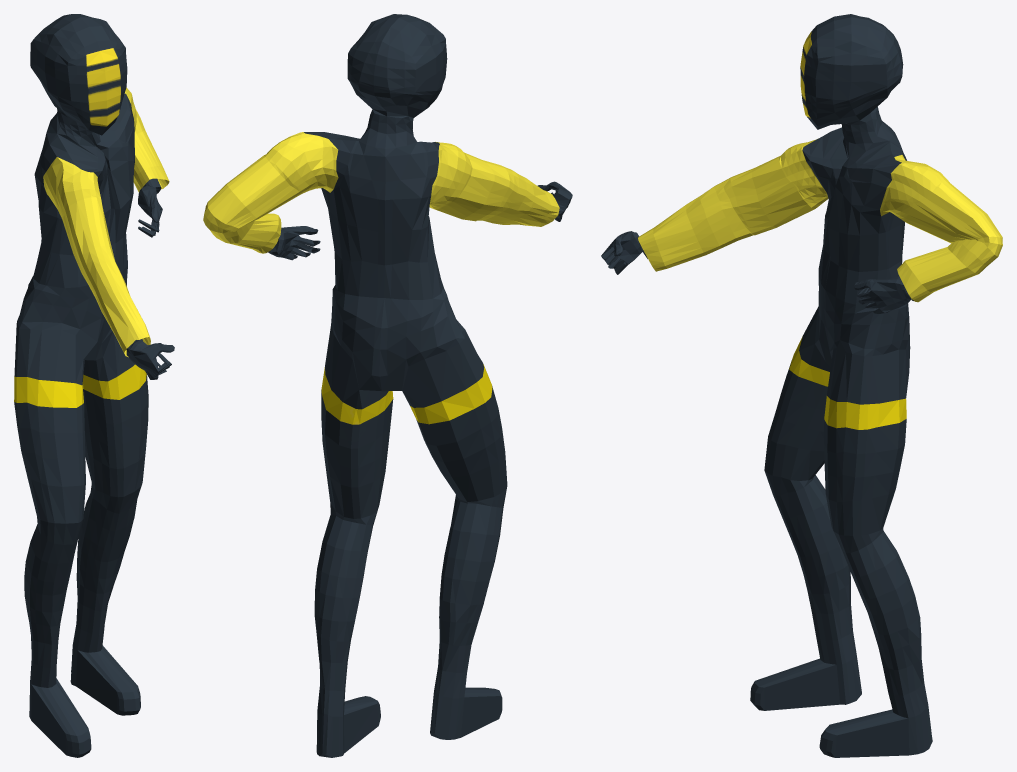
The model's file is Sentry_WF_000016.obj.
3 views of the same model, side by side, from view 1: azimuth 30°, elevation 25°; view 2: azimuth 150°, elevation 25°; view 3: azimuth 270°, elevation 25° (orthographic). The views are drawn at different scales.
Parts seen in each view (by area): view 1: Cube; view 2: Cube; view 3: Cube.
Part boxes in pixels (<box>): Cube: <box>14,14,174,757</box>; Cube: <box>203,14,572,757</box>; Cube: <box>601,14,1002,757</box>.
Size of the model in its own units: 1.16 by 3.89 by 1.98.
